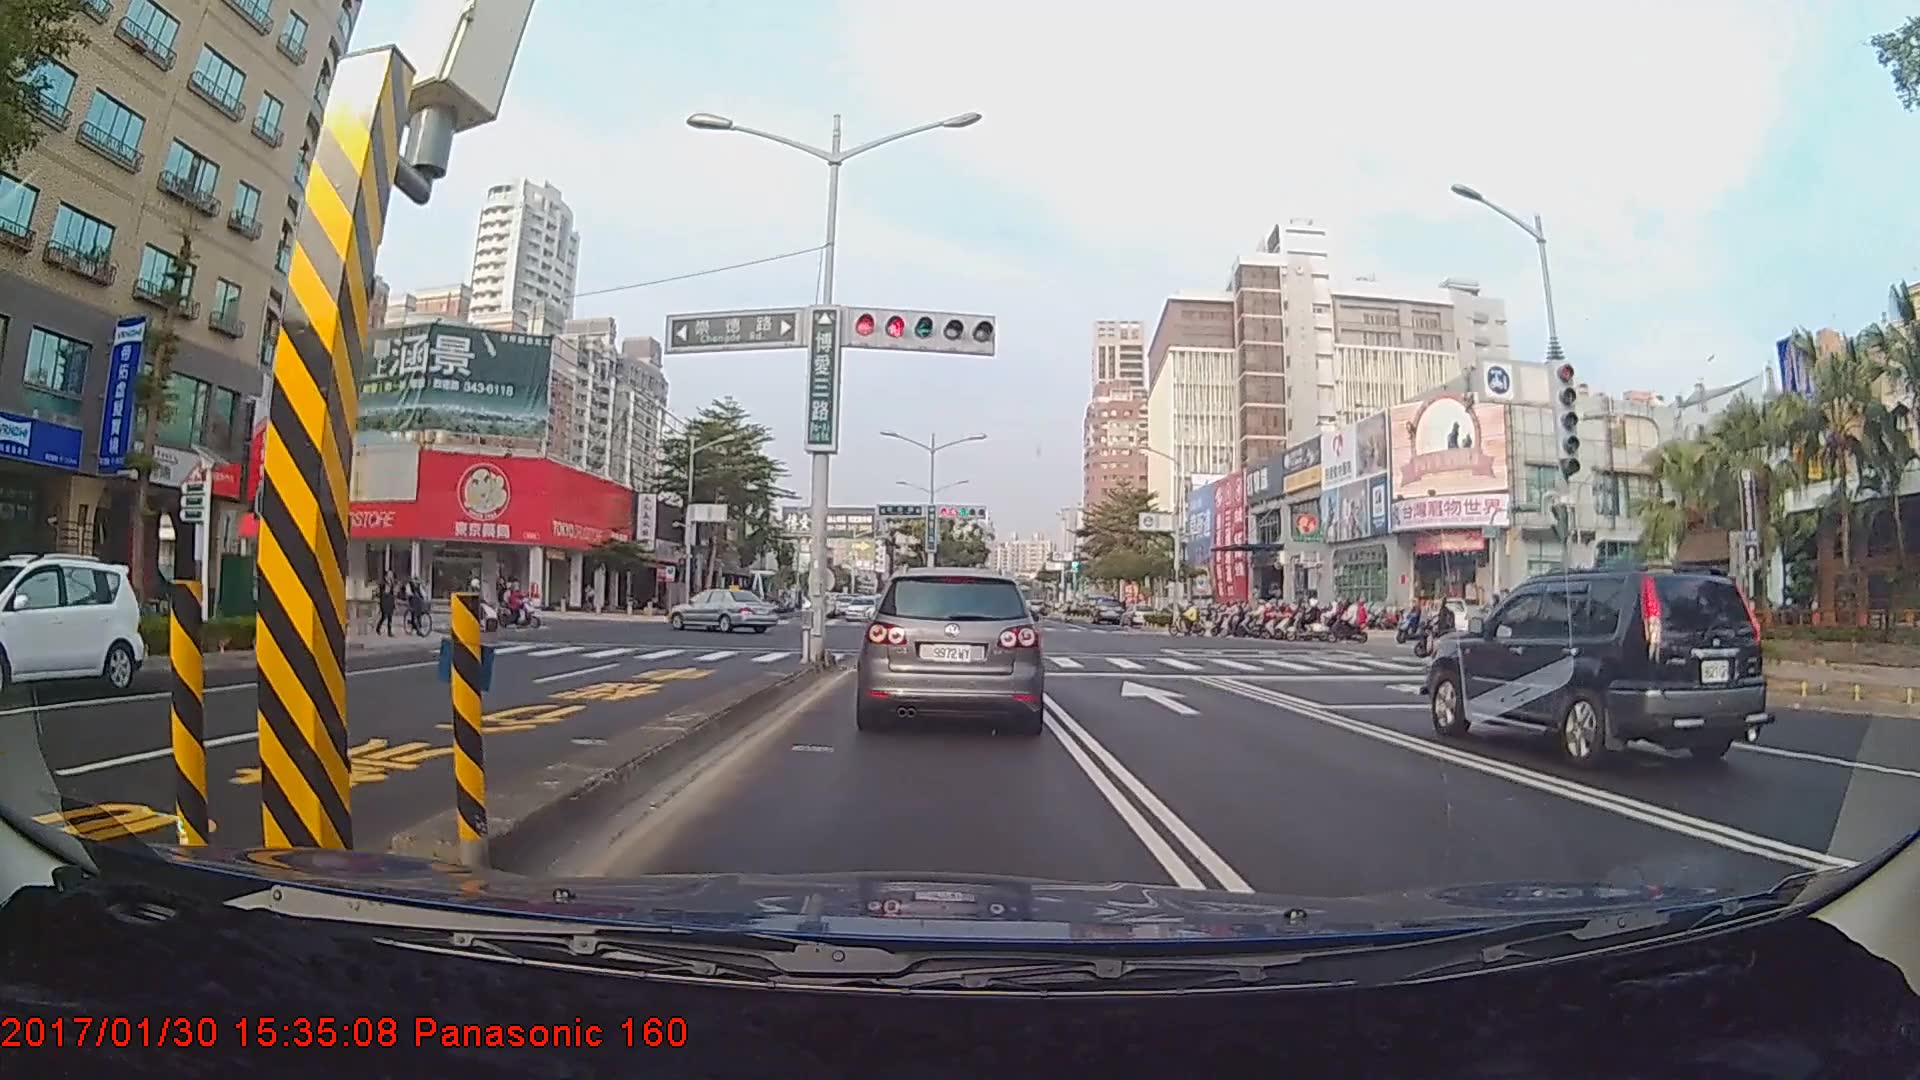pedestrian: (376, 566, 400, 640)
rider: (1325, 594, 1375, 645), (1302, 601, 1348, 641), (1172, 601, 1207, 636)
vehicle: (1423, 567, 1774, 773), (863, 568, 1046, 728), (0, 557, 139, 702), (667, 585, 785, 634), (1092, 597, 1124, 625)
